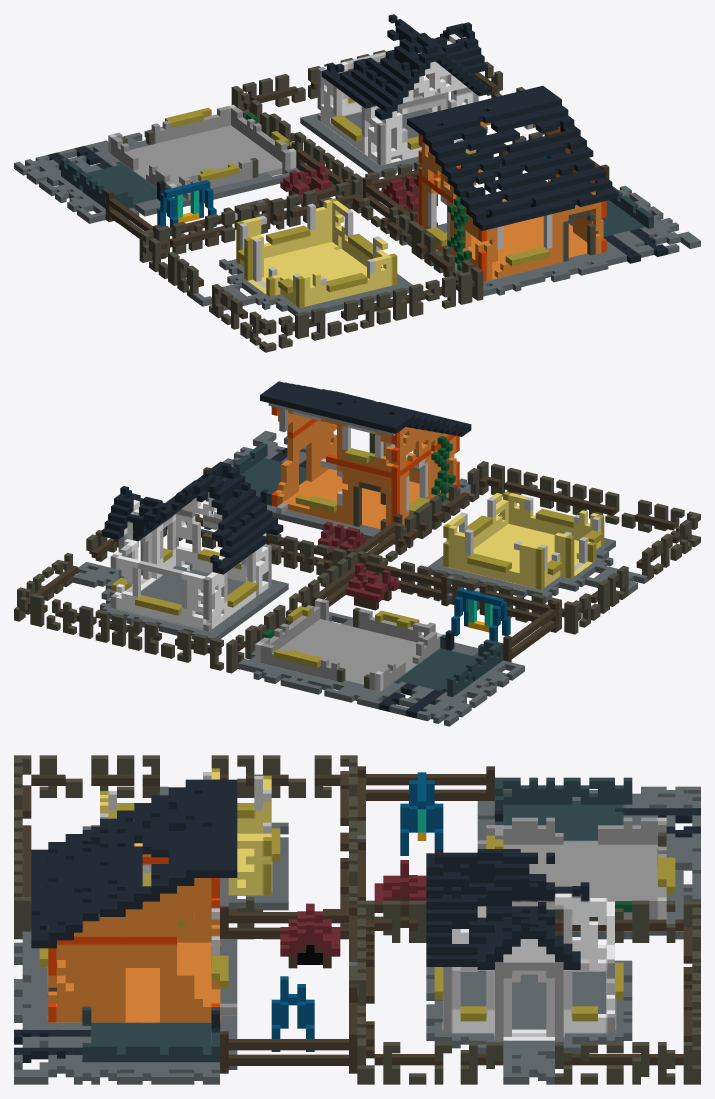
The model's file is building_small_4_destroyed.glb.
The picture shows the model from 3 angles, top to bottom: view 1: azimuth 30°, elevation 25°; view 2: azimuth 150°, elevation 25°; view 3: azimuth 270°, elevation 25°; orthographic projection. The views are drawn at different scales.
Visible parts, largest first — view 1: building_small_4_destroyed; view 2: building_small_4_destroyed; view 3: building_small_4_destroyed.
Part boxes in pixels (x1,y1,x2,y2): building_small_4_destroyed: (14, 14, 700, 352); building_small_4_destroyed: (14, 381, 700, 726); building_small_4_destroyed: (14, 755, 700, 1084).
Size of the model in its own units: 8 by 2.1 by 8.
Materials: 1 (1 with a texture image).
